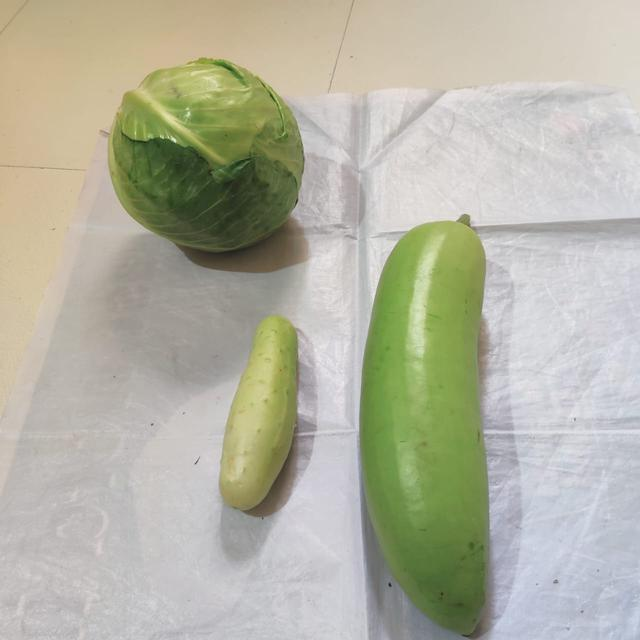Organik: (348, 197, 512, 640), (95, 53, 332, 257), (197, 297, 322, 520)
